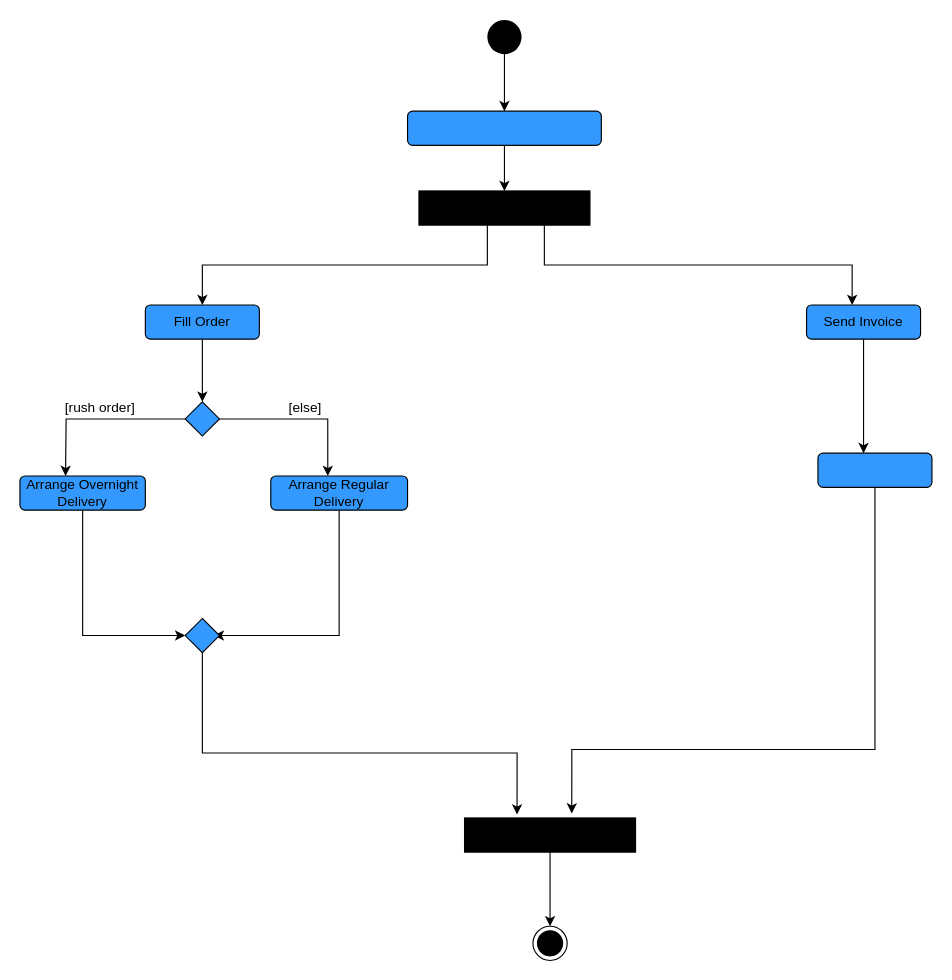
This 952x980 diagram has some shape labels left out. The centre of each missing label's shape, as x and y in pixels:
"Receive Order" belongs at pixel 503 127.
"Receive Payment" belongs at pixel 874 469.
